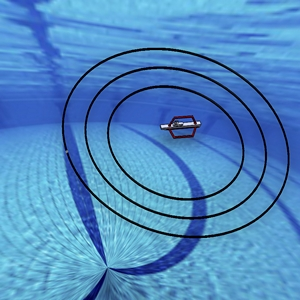circle: (47, 30, 300, 242)
submarine: (153, 106, 206, 151)
